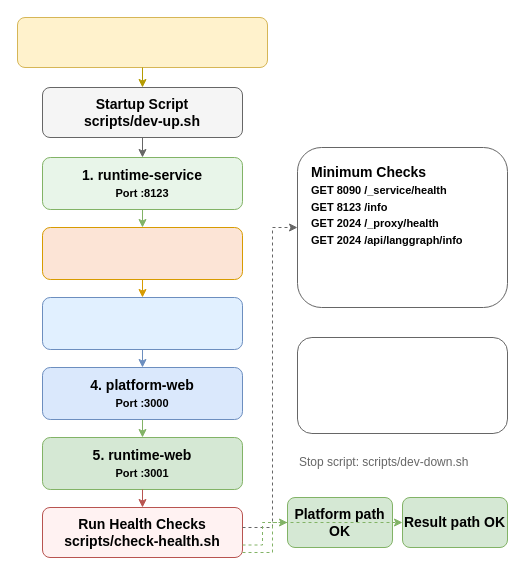
This 525x578 diagram has some shape labels left out. Here are the shapes that lost their labels. From the top down, the centre of each, then its label:
pixel 142 42: Local Startup Flow
pixel 142 253: 2. interaction-data-service Port :8090
pixel 142 323: 3. platform-api Port :2024
pixel 402 385: Open URLs platform-web: http://127.0.0.1:3000 runtime-web: http://127.0.0.1:3001
